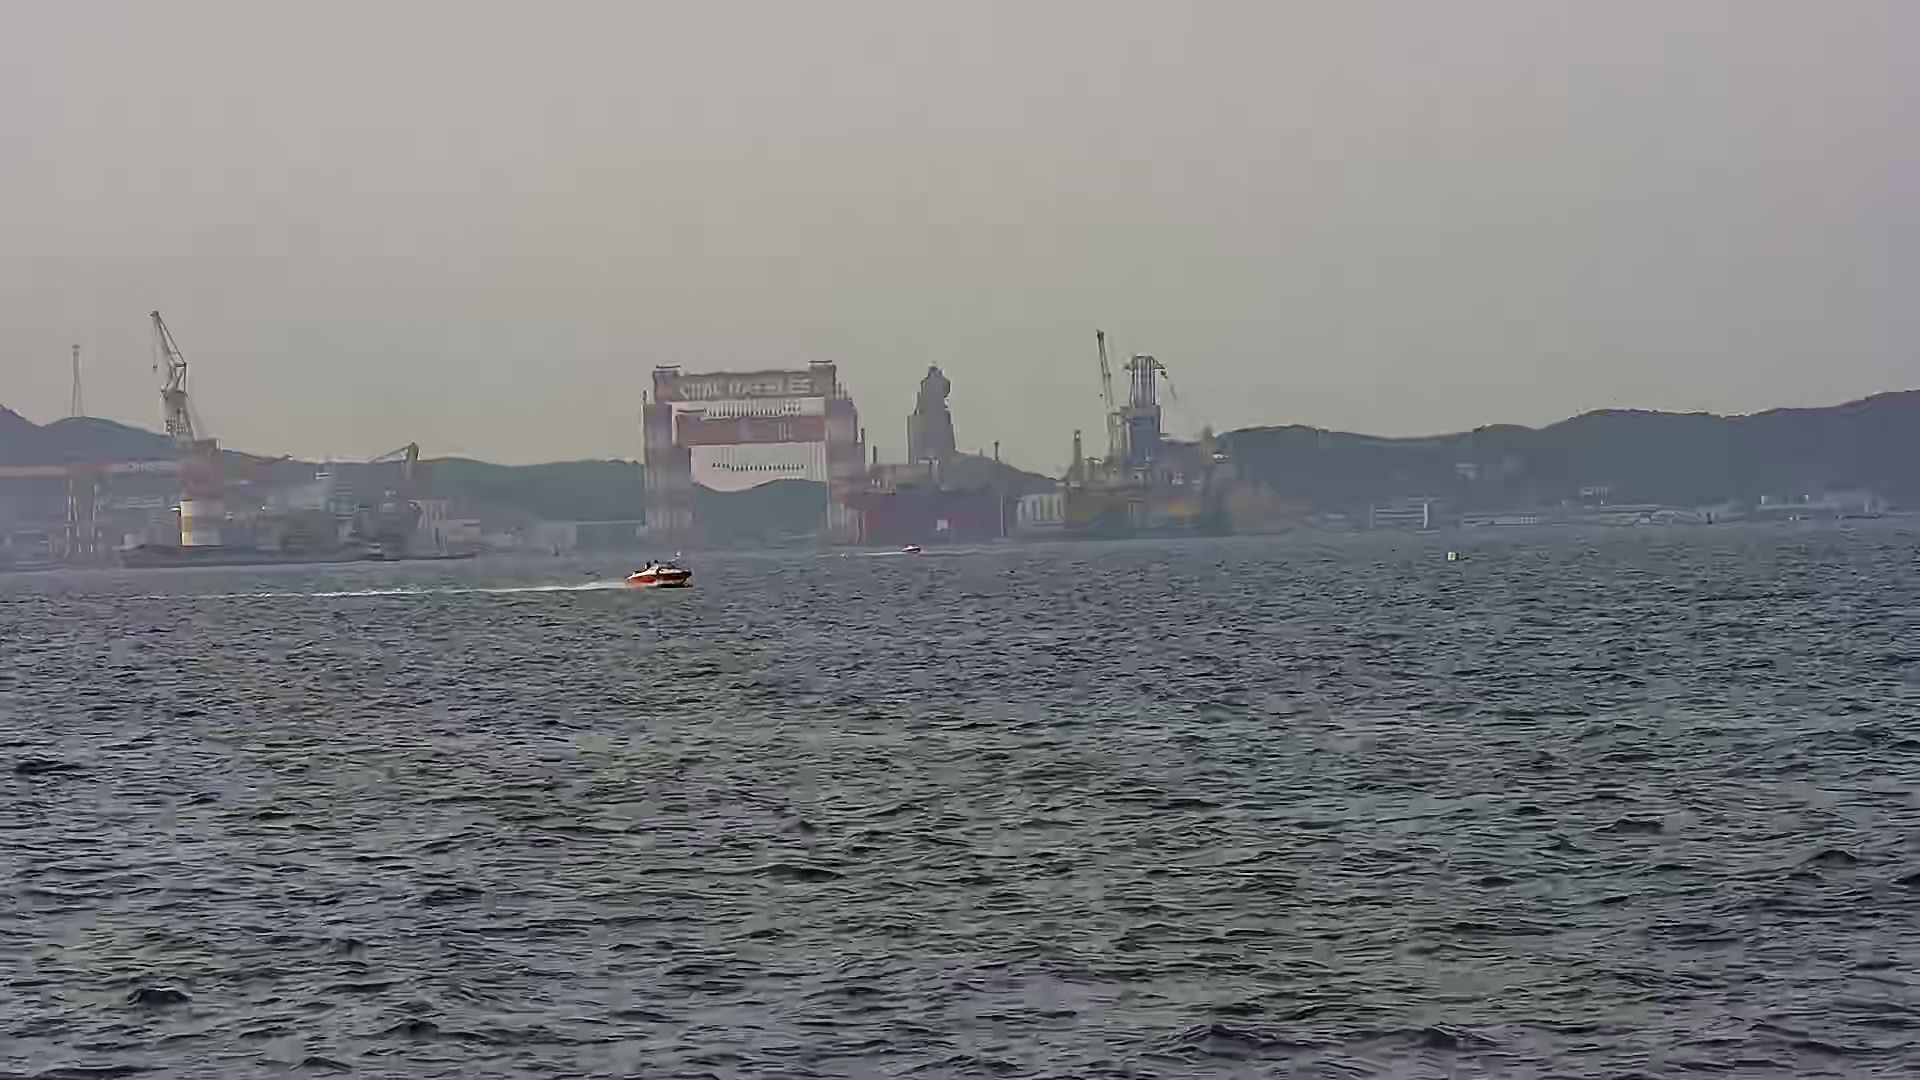boat: (617, 547, 702, 601)
